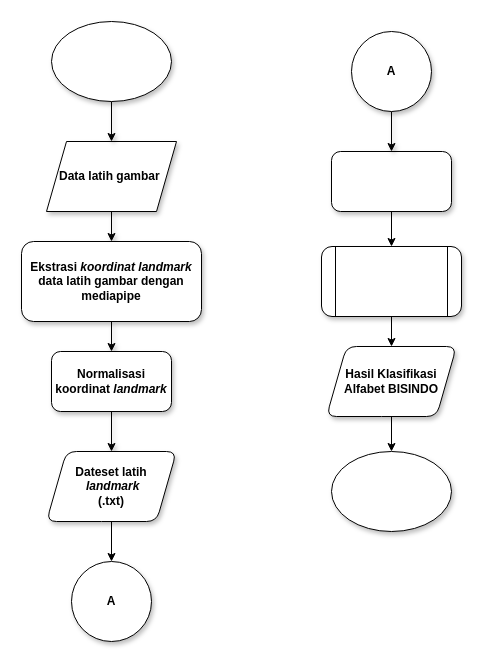
This 485x666 diagram has some shape labels left out. Here are the shapes that lost their labels. From the top down, the centre of each, then its label:
point (112, 62): Start
point (392, 182): Perhitungan menggunakan kernel Polynomial
point (392, 283): Klasifikasi menggunakan SVM
point (392, 492): End
